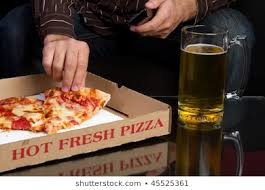pizza: (4, 86, 105, 133)
